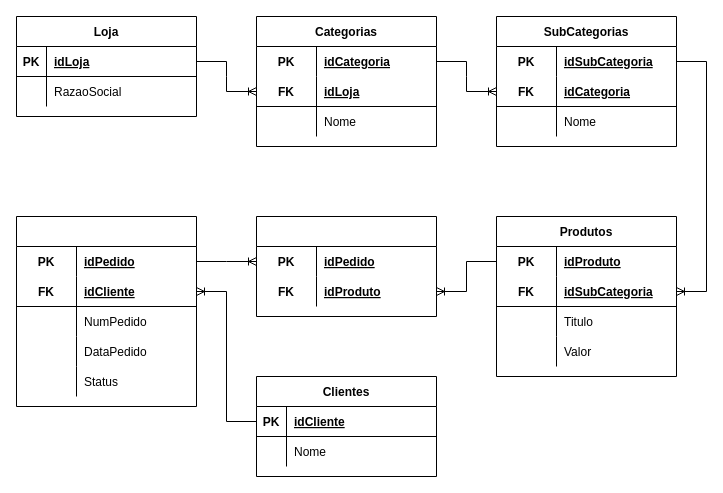
Image size: 723x493. Some labels were removed from this diagram. The box of each missing label's shape, as (x1, y1, x2, y2) in pixels:
Pedidos: (16, 216, 196, 406)
PedidosProdutos: (256, 216, 436, 316)
